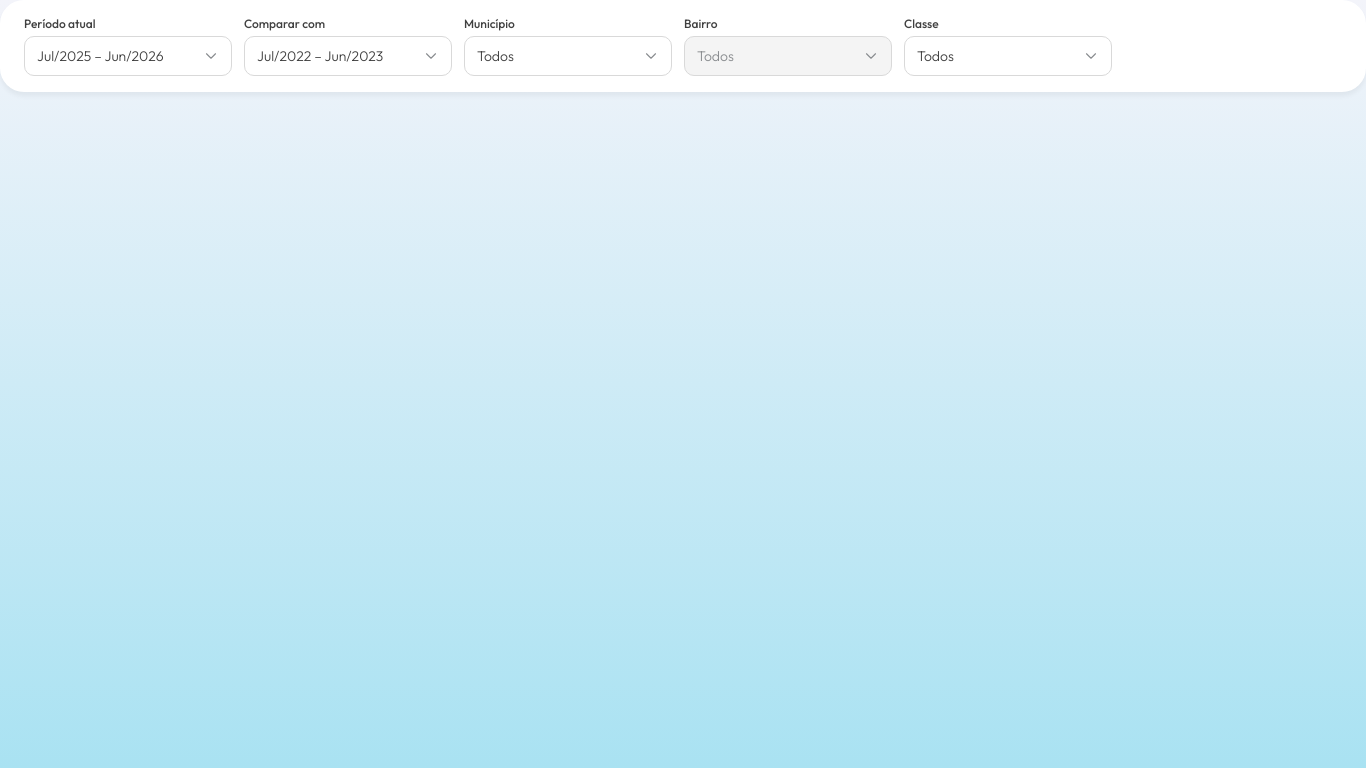
Scenario: BarraDeFiltros › bairro só habilita com município e lista os bairros daquele município
Expected: the dropdown labelled "Bairro" is disabled, [684,36,892,76]
Step 1. Select "Olinda" in the dropdown labelled "Município" → (568, 56), box [464,36,672,76]
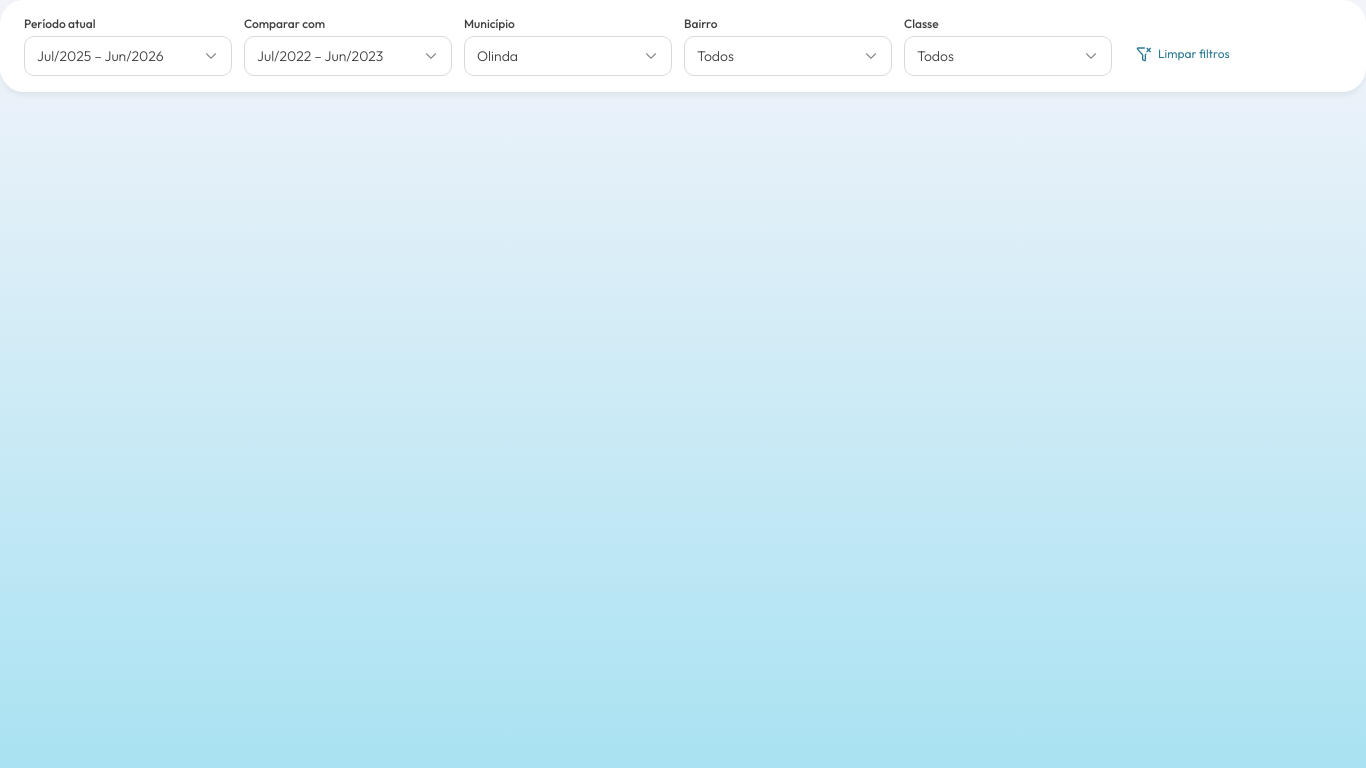
Now the dropdown labelled "Bairro" is enabled, box [684,36,892,76]
